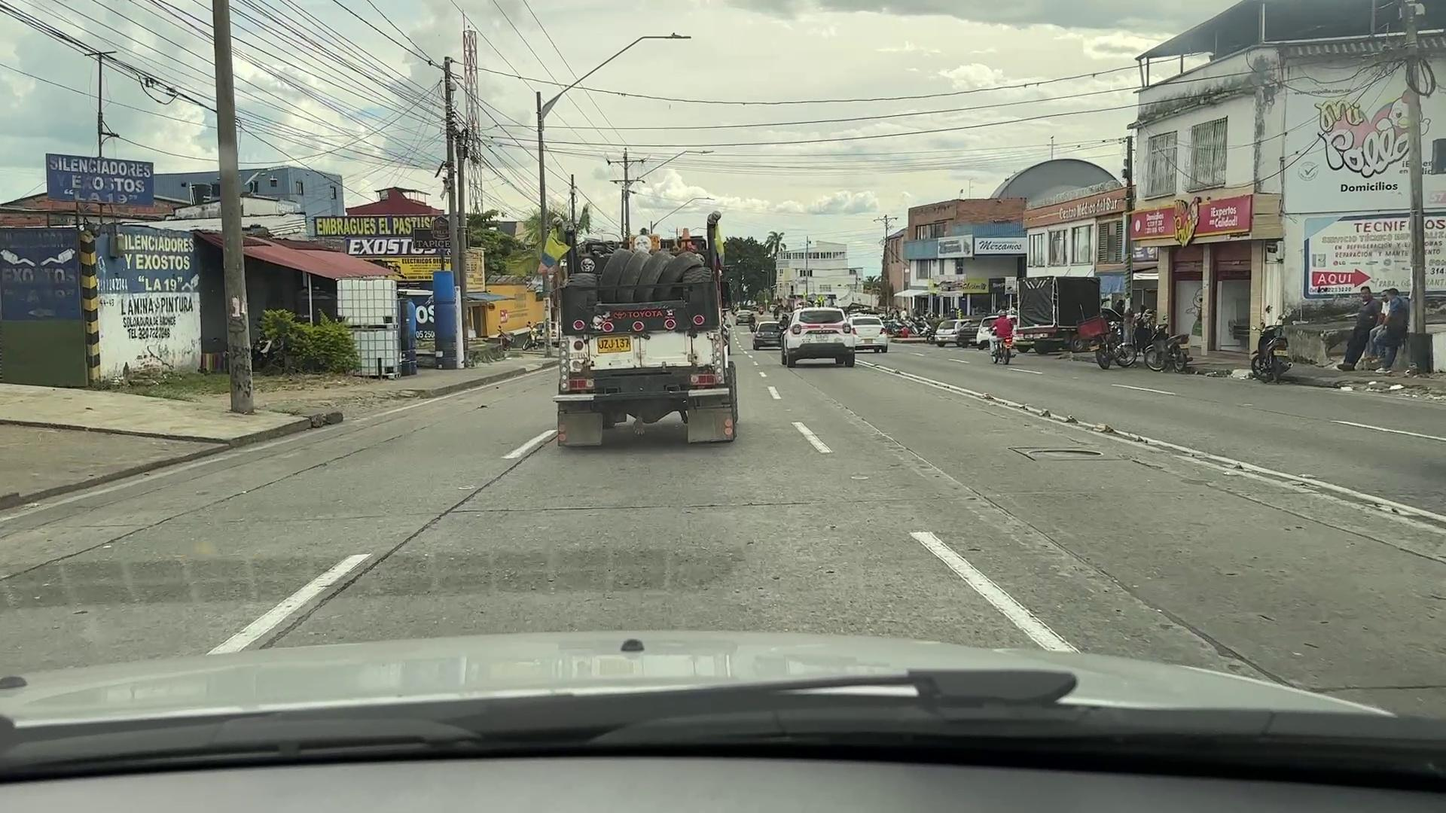grieta: (1131, 459, 1172, 474)
registro: (1027, 449, 1104, 457)
